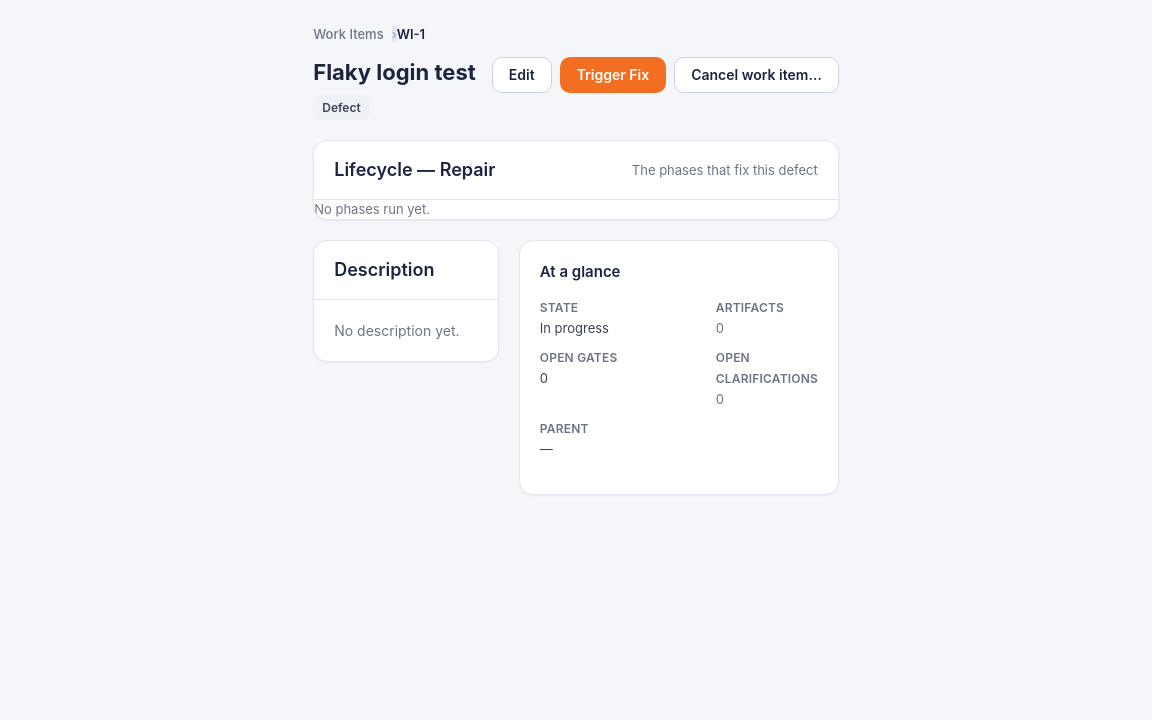
it: a defect › asks before starting the fix
Expected: the heading "Flaky login test" is shown, [313, 57, 476, 87]
Step 1. Click the button "Trigger Fix" → click(613, 75), box [560, 57, 666, 93]
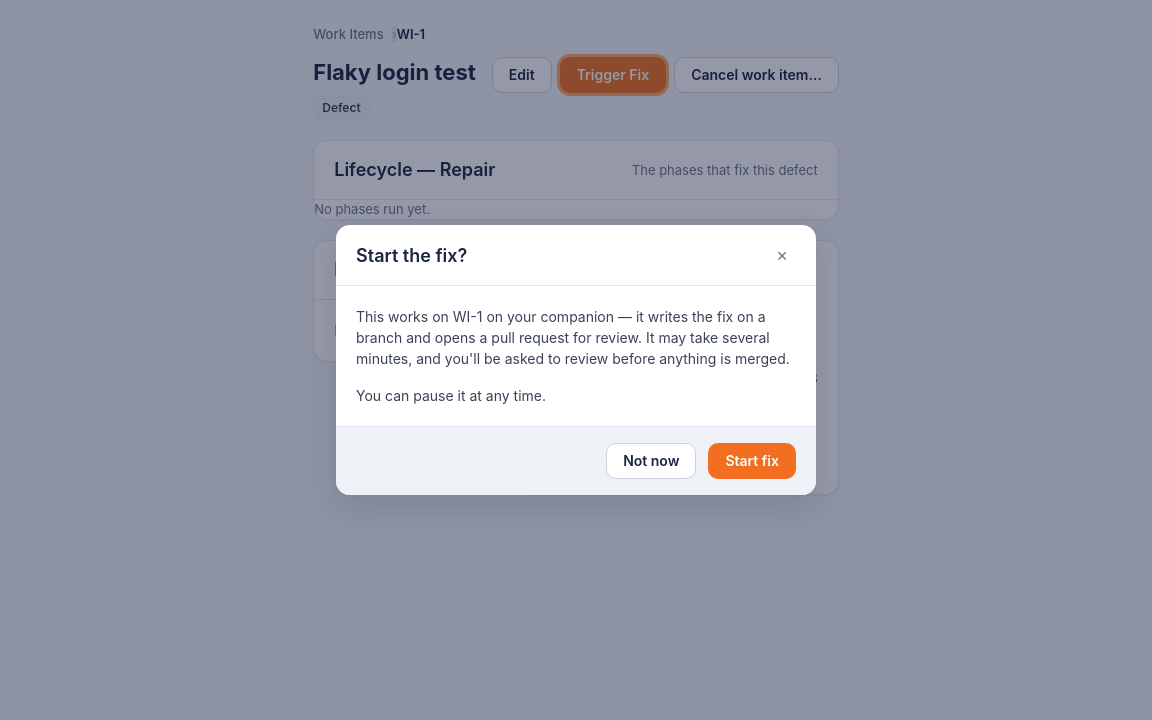
Expected: the button "Start fix" is shown, [708, 443, 796, 479]
